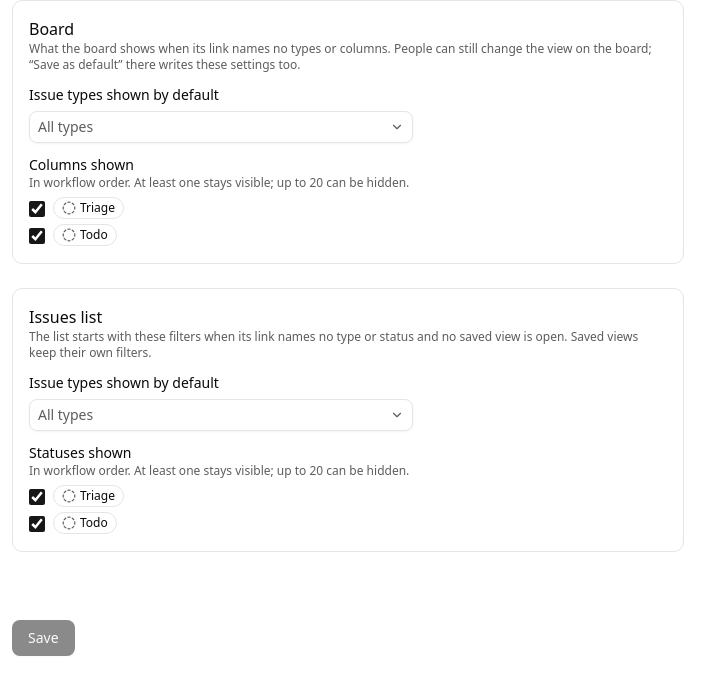
Test: ViewDefaultsEditor (Views tab, BRD-6 / VW-4) › shows a refusal from the server
This screenshot has width=701, height=673.
Click the checkbox labelled "Triage" below "Columns shown".
click(37, 208)  # box [29,200,45,216]
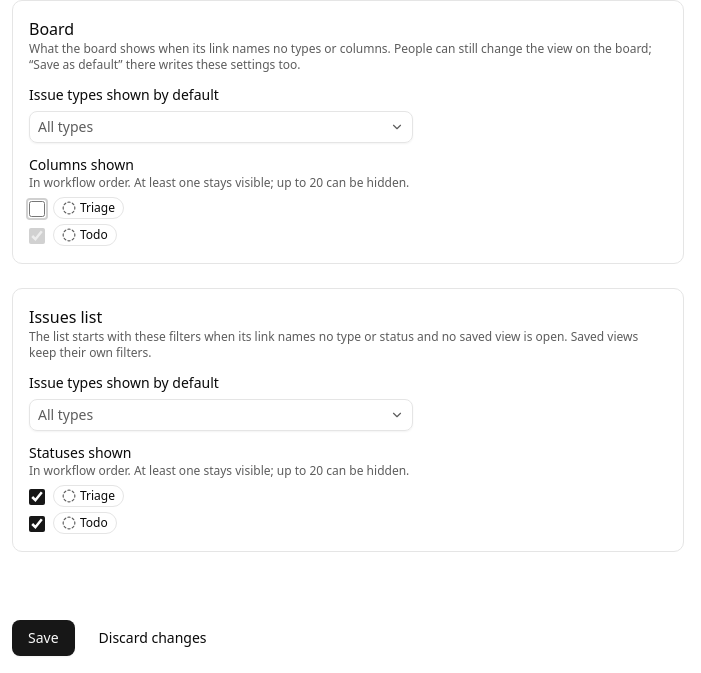
Click the button "Save".
click(43, 638)  # box [12,620,75,656]
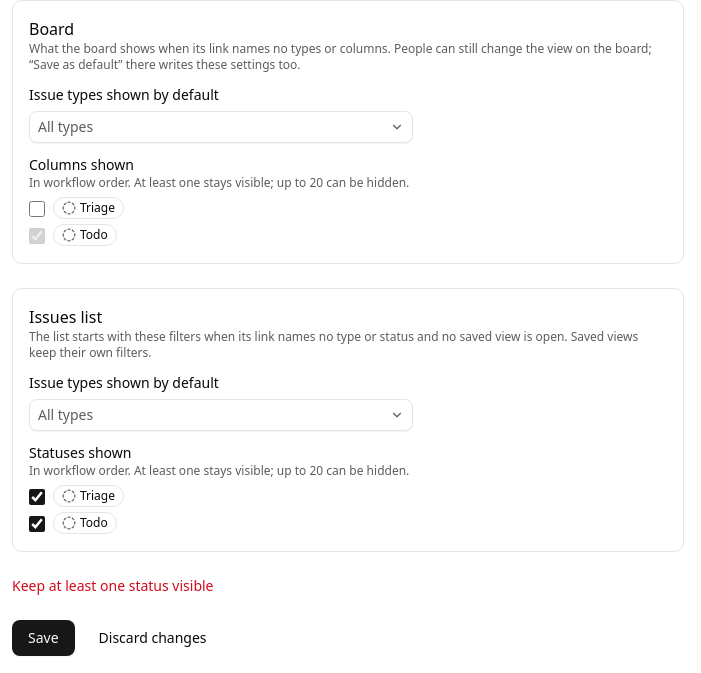
Result: the message reads "Keep at least one status visible" at [12,576,214,595]
